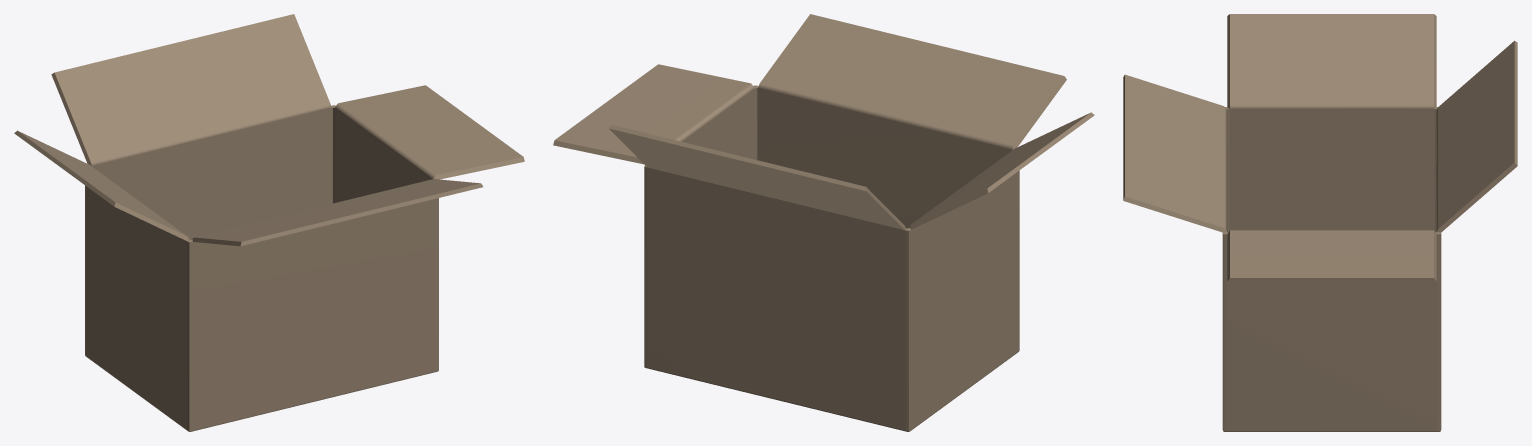
The picture shows the model from 3 angles, left to right: view 1: azimuth 30°, elevation 25°; view 2: azimuth 150°, elevation 25°; view 3: azimuth 270°, elevation 25°; orthographic projection. The views are drawn at different scales.
Parts seen in each view (by area): view 1: Box03; view 2: Box03; view 3: Box03.
Part boxes in pixels (x1,y1,x2,y2): Box03: (14,14,524,431); Box03: (553,14,1094,431); Box03: (1123,14,1517,431).
Bounding box in the file's own units: 0.8043 × 0.4808 × 0.6424.
